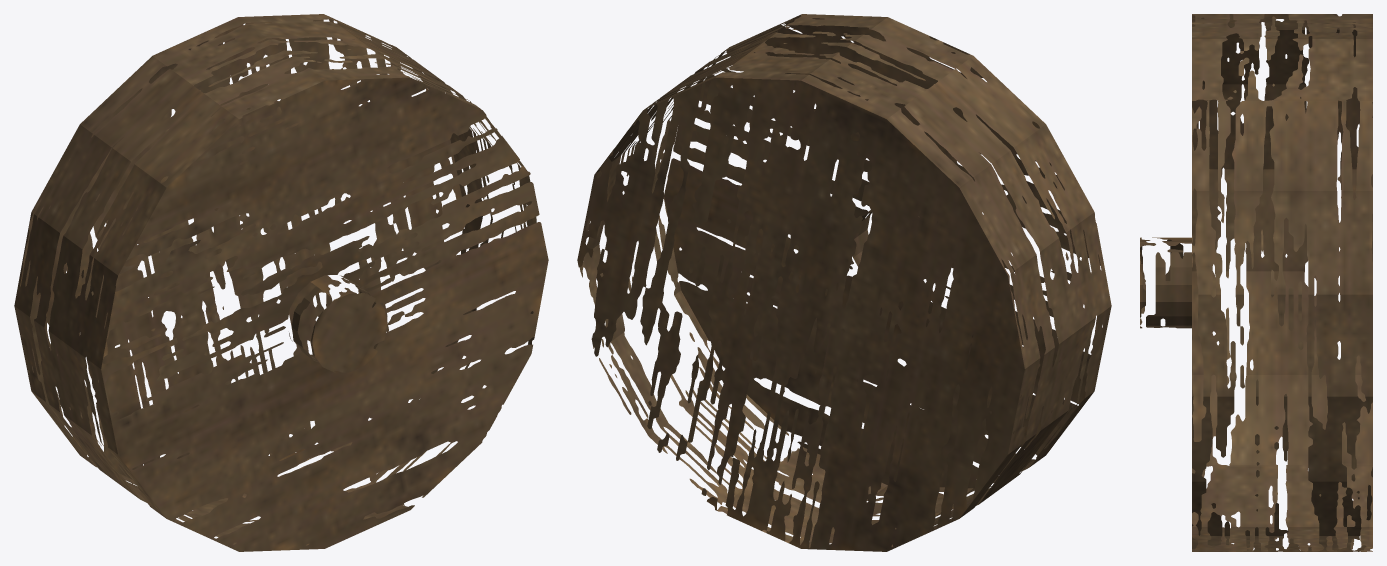
The model's file is Wheel2.obj.
The picture shows the model from 3 angles, left to right: view 1: azimuth 30°, elevation 25°; view 2: azimuth 150°, elevation 25°; view 3: azimuth 270°, elevation 25°; orthographic projection. The views are drawn at different scales.
Visible parts, largest first — view 1: Wheel2; view 2: Wheel2; view 3: Wheel2.
Boxes of the visible parts, x1,y1,x2,y2 form: Wheel2: [14, 14, 548, 551]; Wheel2: [577, 14, 1111, 551]; Wheel2: [1140, 14, 1372, 551].
Bounding box in the file's own units: 3.45 × 3.45 × 1.49.
